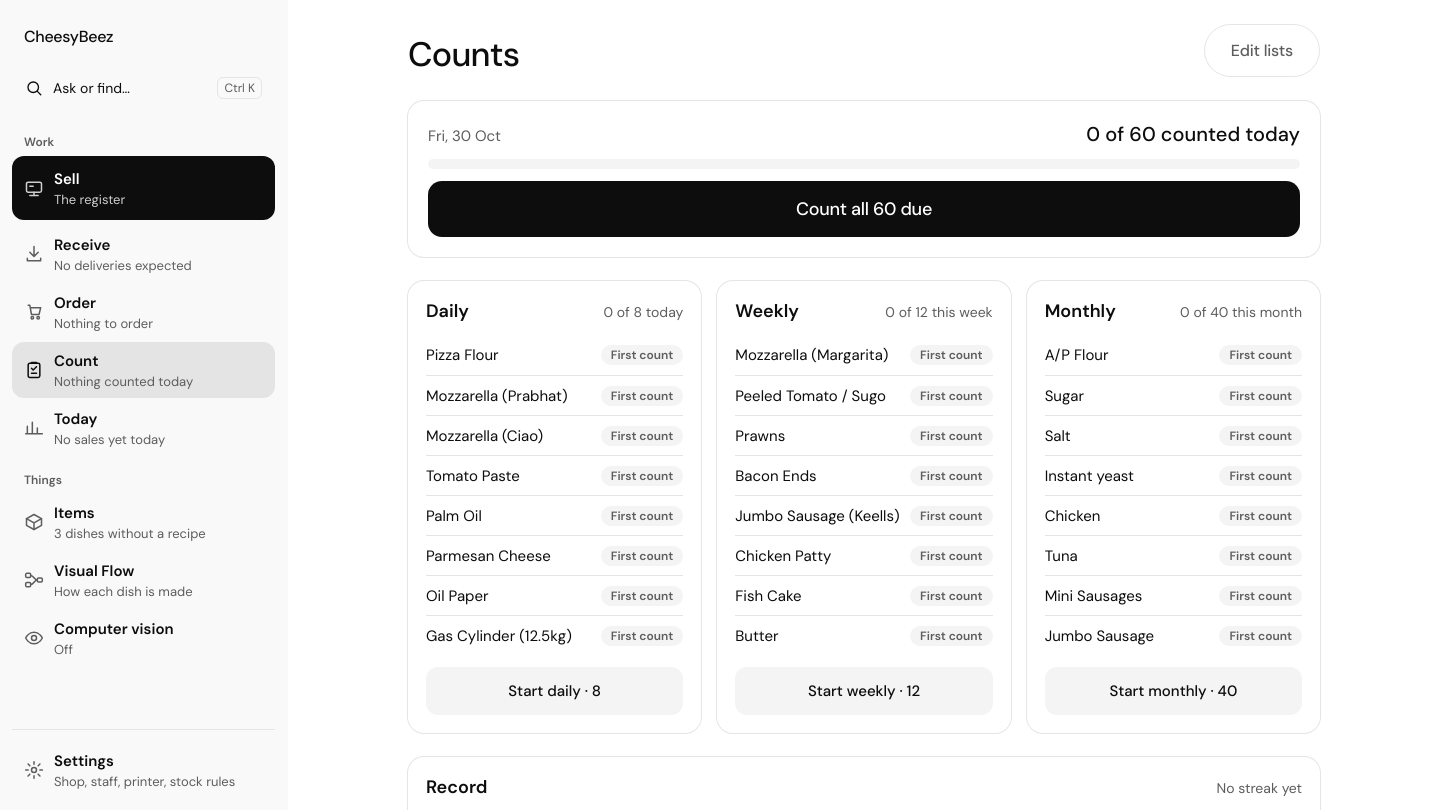
Test: today's count lists what is due; a first count sets the starting amount
Click the button "Count all 60 due".
click(864, 209)  # box [428,181,1300,237]
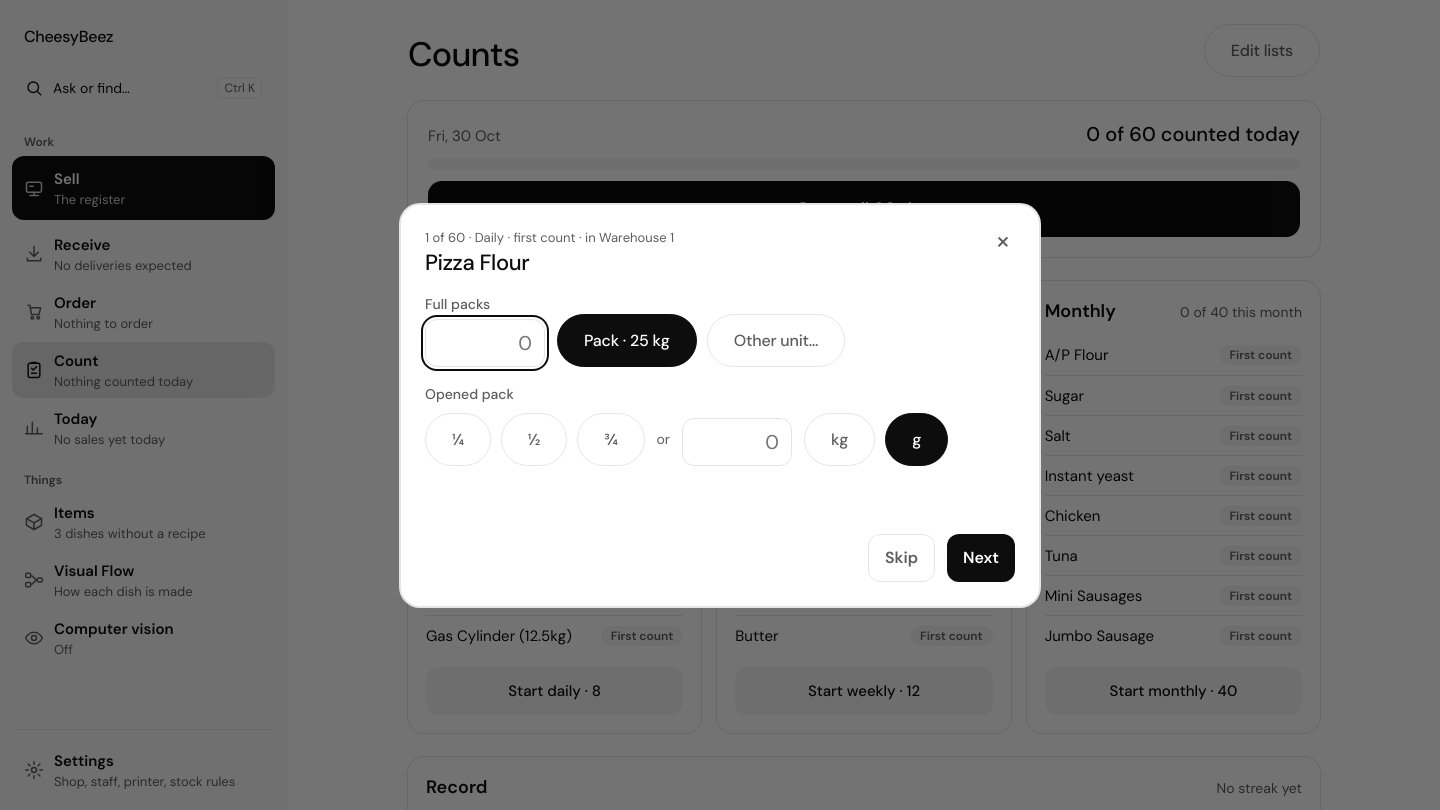
Now the text "1 of 60 · Daily · first count · in Warehouse 1" is shown, box [425,228,674,246]
Type "2" into the field labelled "Full packs".
click(485, 342); type("2")  # box [425,318,545,366]
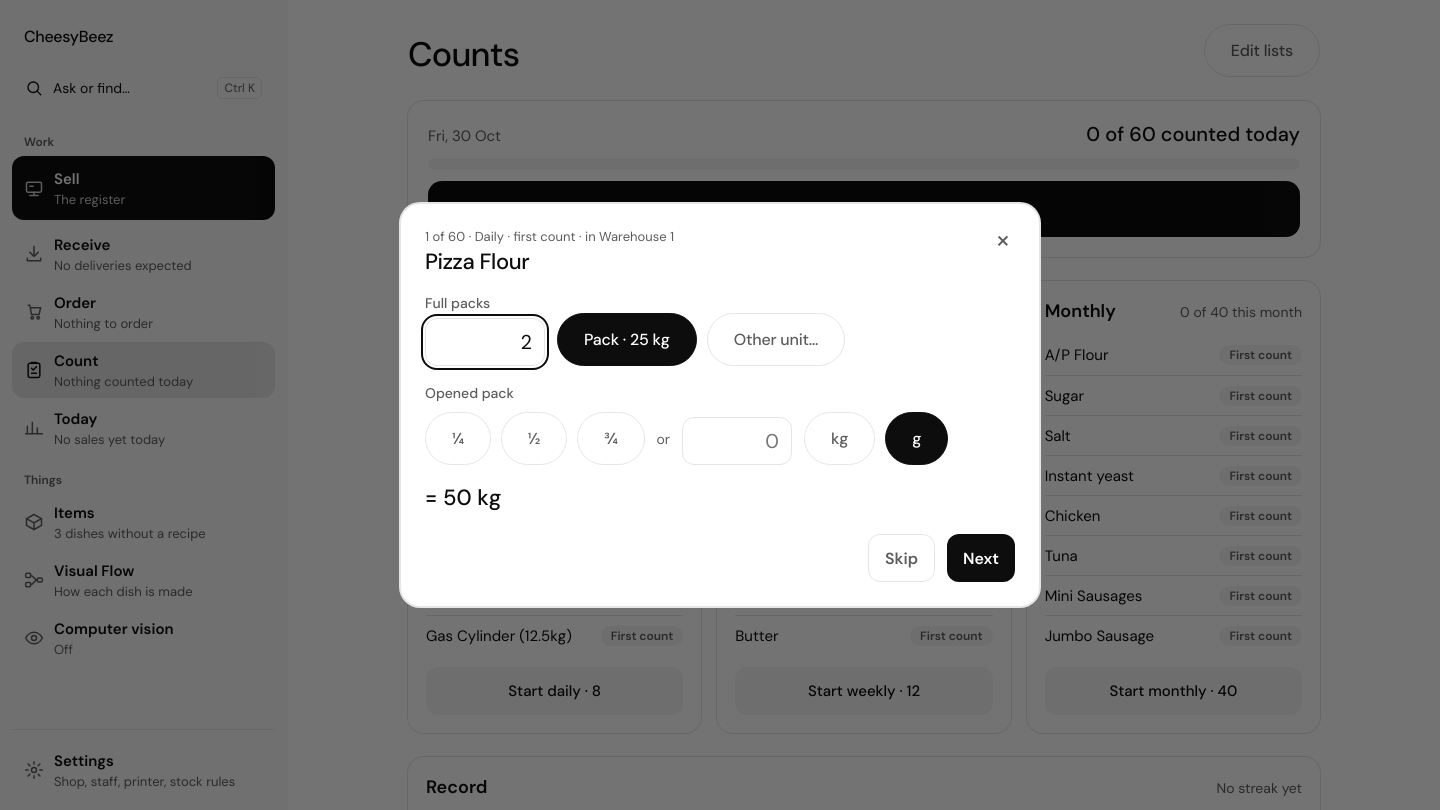
Click the button "½".
click(534, 438)  # box [501,412,567,465]
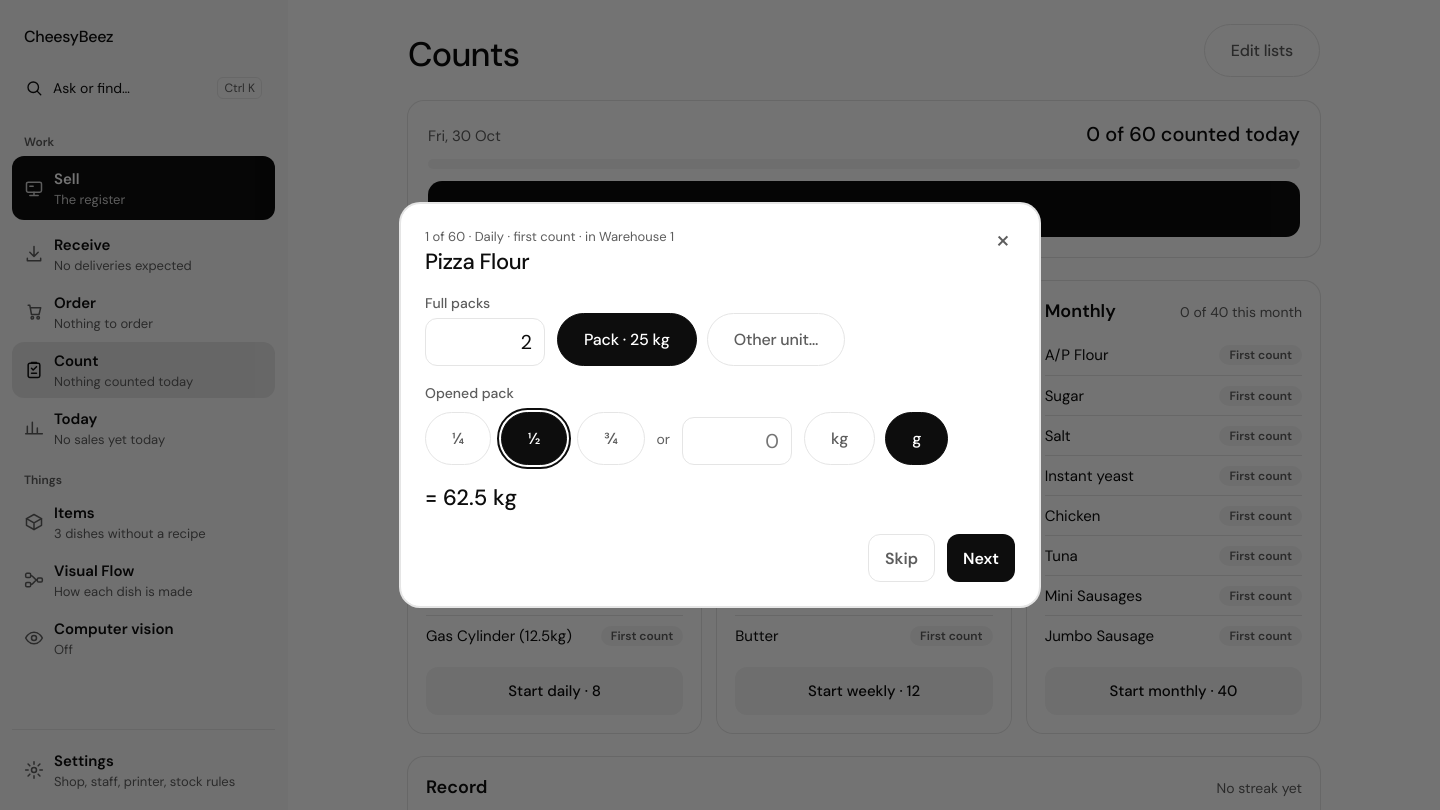
Now the text "= 62.5 kg" is shown, box [425,483,517,512]
Click the button "Next".
click(981, 558)  # box [947,534,1015,582]
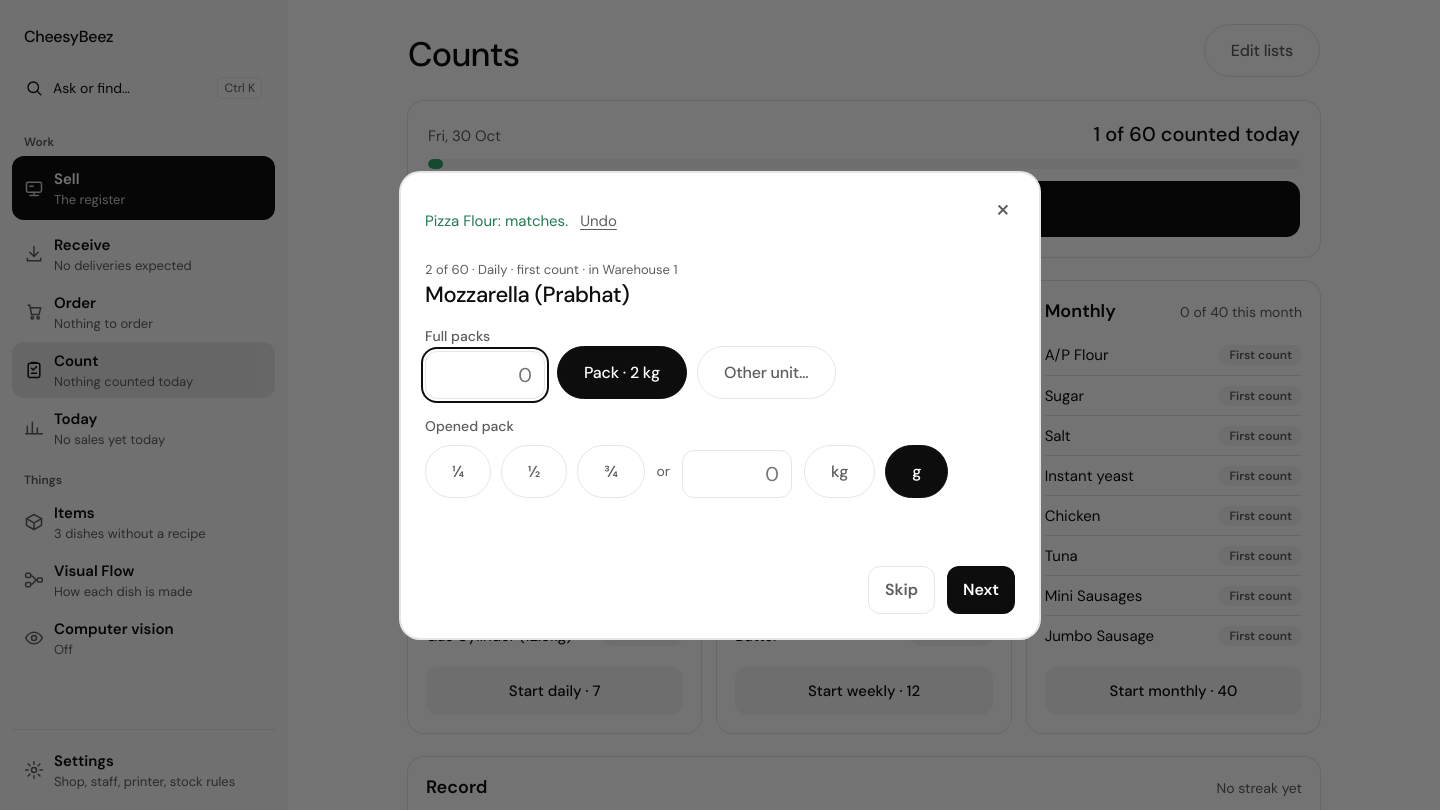
Now the text "2 of 60 · Daily · first count · in Warehouse 1" is shown, box [425,260,678,278]
